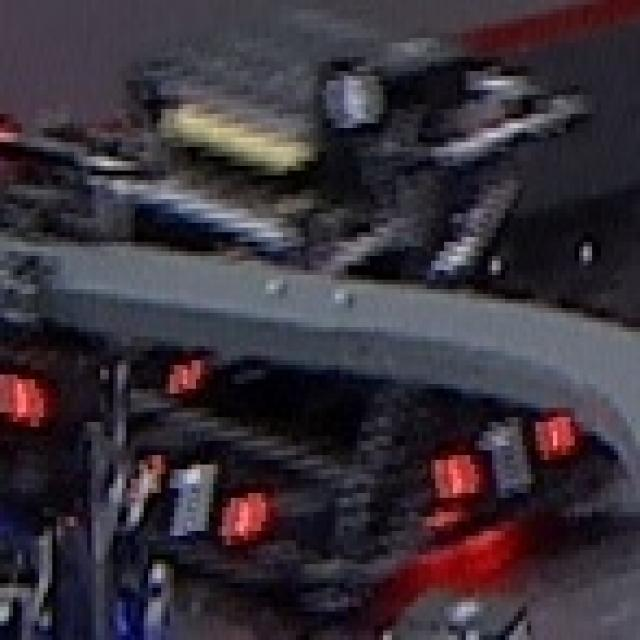R1: (431, 408, 575, 498)
